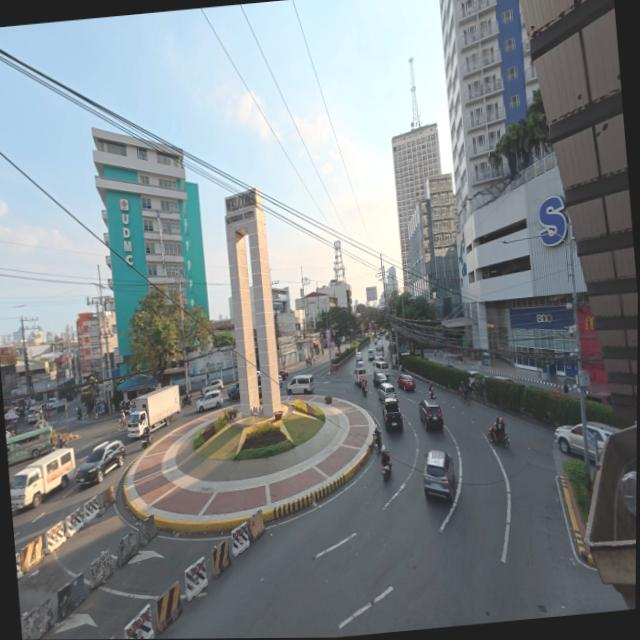Jeepneys: (7, 427, 54, 465)
bus: (374, 341, 383, 359)
car: (75, 440, 126, 484), (423, 451, 454, 501), (556, 425, 584, 454), (419, 399, 443, 430), (194, 389, 224, 412), (383, 397, 403, 431), (378, 383, 396, 402), (202, 379, 223, 395), (586, 392, 611, 405), (397, 374, 415, 391), (468, 370, 483, 386), (46, 399, 65, 410), (228, 383, 240, 400), (373, 373, 387, 387), (493, 375, 516, 383), (366, 348, 375, 361), (279, 370, 288, 380), (257, 371, 261, 386), (334, 349, 340, 358), (356, 352, 362, 361), (357, 360, 363, 367), (385, 334, 389, 340)
motorcycle: (488, 426, 509, 447), (140, 432, 153, 449), (382, 459, 392, 480), (375, 429, 382, 455), (118, 412, 128, 430), (181, 396, 192, 407), (461, 392, 470, 405), (361, 380, 368, 396), (428, 388, 435, 399), (77, 408, 82, 421)
trucks: (128, 386, 180, 438)
vans: (9, 448, 76, 509), (288, 375, 313, 395), (374, 359, 389, 378), (354, 367, 367, 384)
